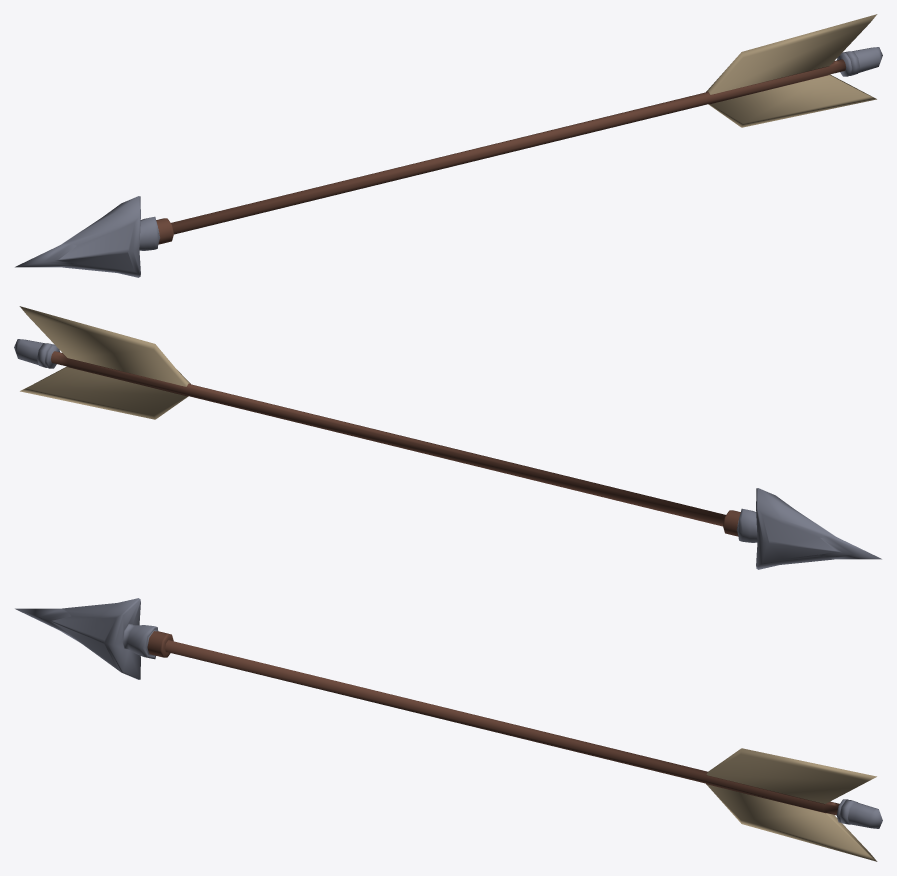
File: Arrow.fbx
3 renders of one model, top to bottom at view 1: azimuth 30°, elevation 25°; view 2: azimuth 150°, elevation 25°; view 3: azimuth 330°, elevation 25°, orthographic.
Visible parts, largest first — view 1: Arrow; view 2: Arrow; view 3: Arrow.
Part boxes in pixels (box(x1,y1,x2,y2)): Arrow: box(15, 14, 882, 277); Arrow: box(14, 306, 881, 569); Arrow: box(15, 598, 882, 861).
Size of the model in its own units: 3.7 by 6.81 by 72.58.
